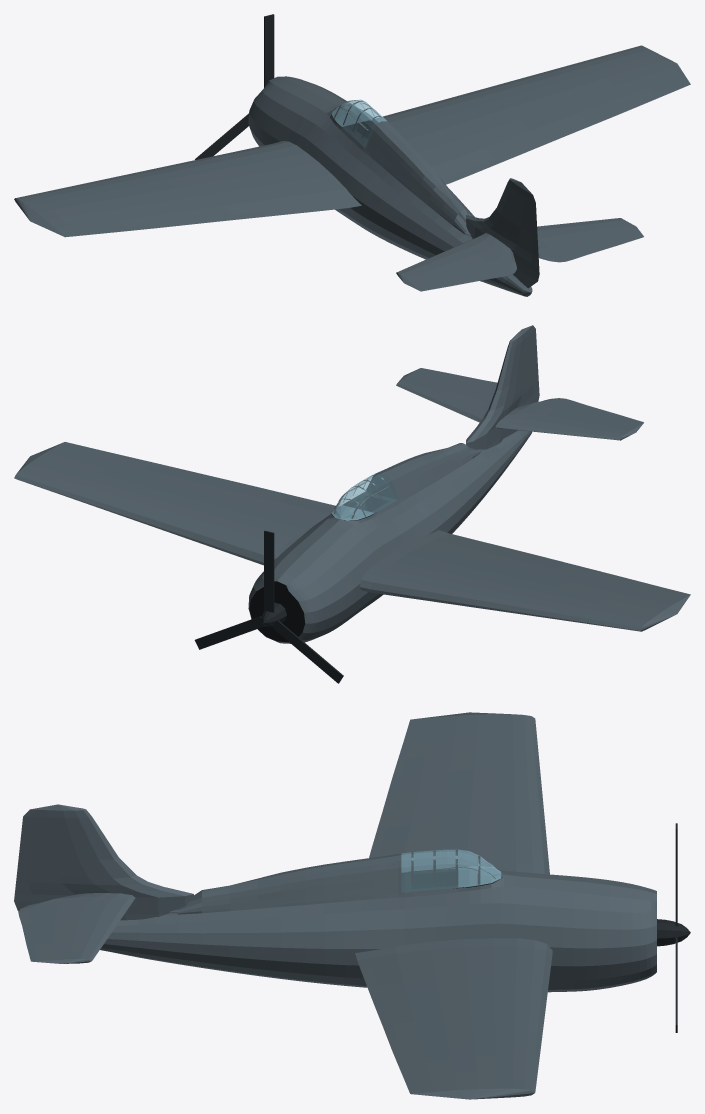
3 renders of one model, top to bottom at view 1: azimuth 30°, elevation 25°; view 2: azimuth 150°, elevation 25°; view 3: azimuth 270°, elevation 25°, orthographic. The views are drawn at different scales.
Visible parts, largest first — view 1: F4F_Wing, F4F_Fuselage, F4F_Tailplane, F4F_Dorsal, F4F_Fin, F4F_Prop, F4F_Glass; view 2: F4F_Wing, F4F_Fuselage, F4F_Tailplane, F4F_Fin, F4F_Dorsal, F4F_Prop, F4F_Glass; view 3: F4F_Wing, F4F_Fuselage, F4F_Fin, F4F_Dorsal, F4F_Tailplane, F4F_Glass, F4F_Hub, F4F_Frames, F4F_Prop.
Boxes of the visible parts, x1,y1,x2,y2 form: F4F_Wing: (14,45,690,237); F4F_Fuselage: (248,76,532,296); F4F_Tailplane: (396,218,643,291); F4F_Dorsal: (345,121,470,235); F4F_Fin: (466,178,539,288); F4F_Prop: (195,14,274,159); F4F_Glass: (331,99,386,147); F4F_Wing: (14,442,690,631); F4F_Fuselage: (248,430,532,643); F4F_Tailplane: (396,368,643,440); F4F_Fin: (466,325,539,449); F4F_Dorsal: (338,443,481,519); F4F_Prop: (194,530,343,683); F4F_Glass: (331,473,397,520); F4F_Wing: (355,712,552,1099); F4F_Fuselage: (100,867,656,992); F4F_Fin: (14,804,193,920); F4F_Dorsal: (169,853,503,913); F4F_Tailplane: (18,893,135,963); F4F_Glass: (401,849,502,892); F4F_Hub: (657,919,690,946); F4F_Frames: (407,850,495,884); F4F_Prop: (675,823,677,1032).
Size of the model in its own units: 11.58 by 2.61 by 8.56.
